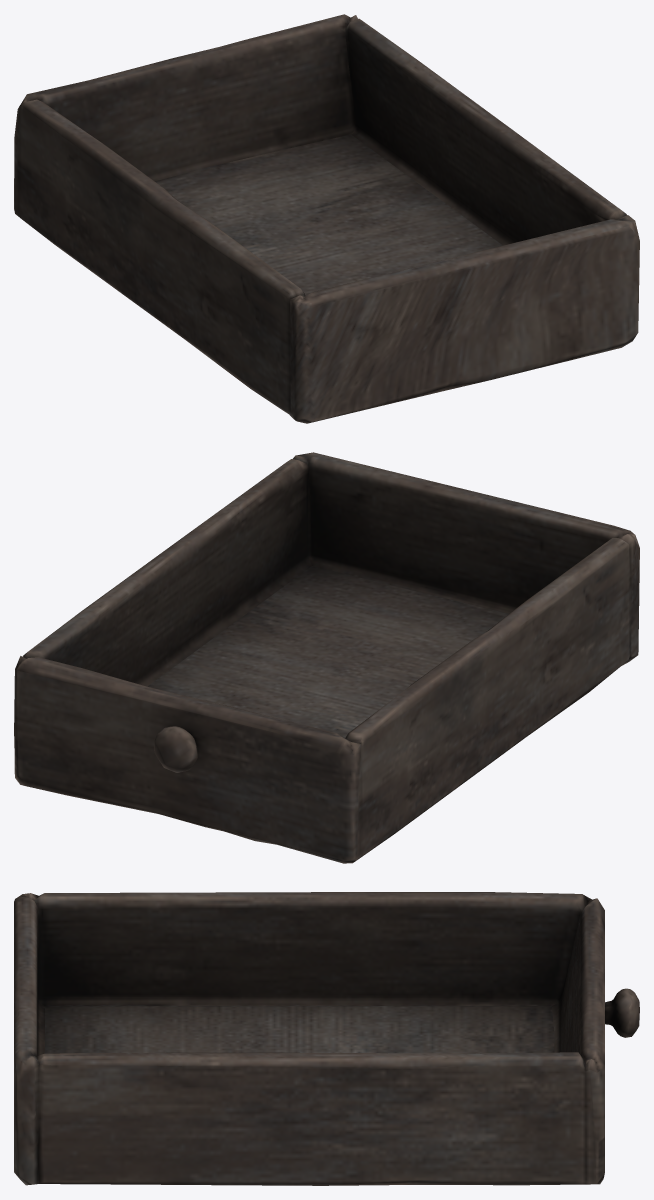
Rendered from SM_Cabinet_Drawer2.fbx.
3 renders of one model, top to bottom at view 1: azimuth 30°, elevation 25°; view 2: azimuth 150°, elevation 25°; view 3: azimuth 270°, elevation 25°, orthographic. The views are drawn at different scales.
Parts seen in each view (by area): view 1: SM_Cabinet_Drawer2_LOD0; view 2: SM_Cabinet_Drawer2_LOD0; view 3: SM_Cabinet_Drawer2_LOD0.
Part boxes in pixels (x1,y1,x2,y2): SM_Cabinet_Drawer2_LOD0: (14,14,639,423); SM_Cabinet_Drawer2_LOD0: (14,452,639,863); SM_Cabinet_Drawer2_LOD0: (14,892,639,1185).
Size of the model in its own units: 21.46 by 33.33 by 7.6.
